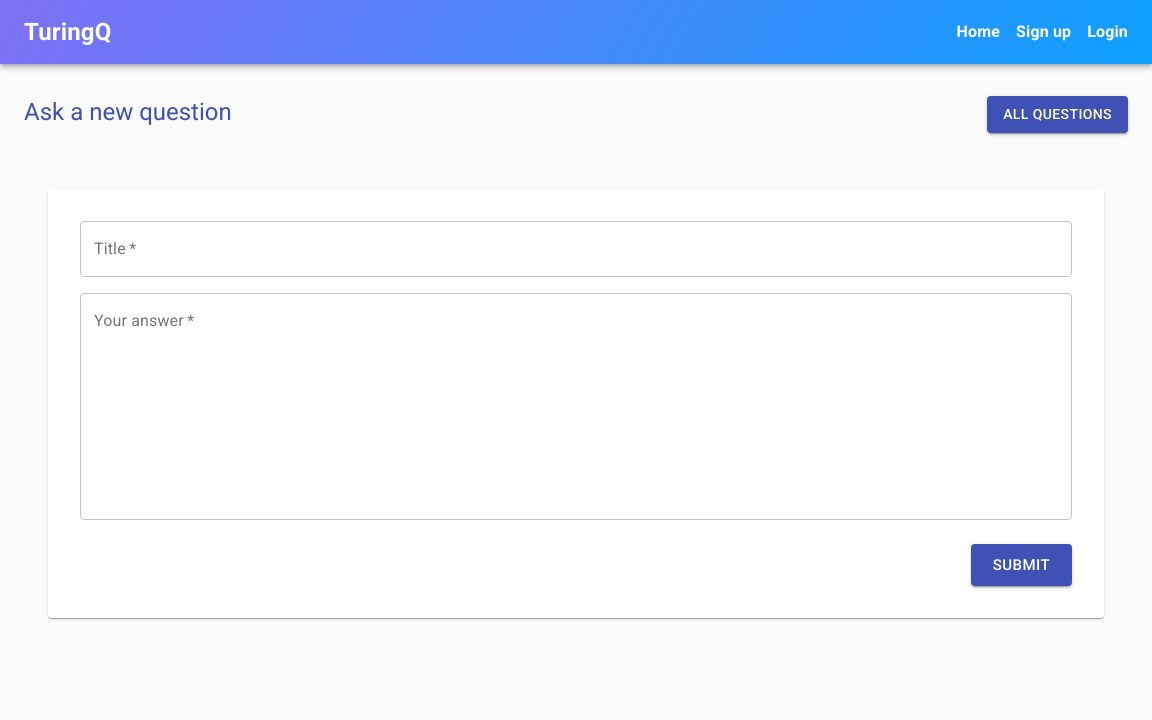
Test: Create and load questions › Should create new question
Type "Three Question mock" into the field with id "title" at (576, 249), box x1=80 y1=221 x2=1072 y2=277
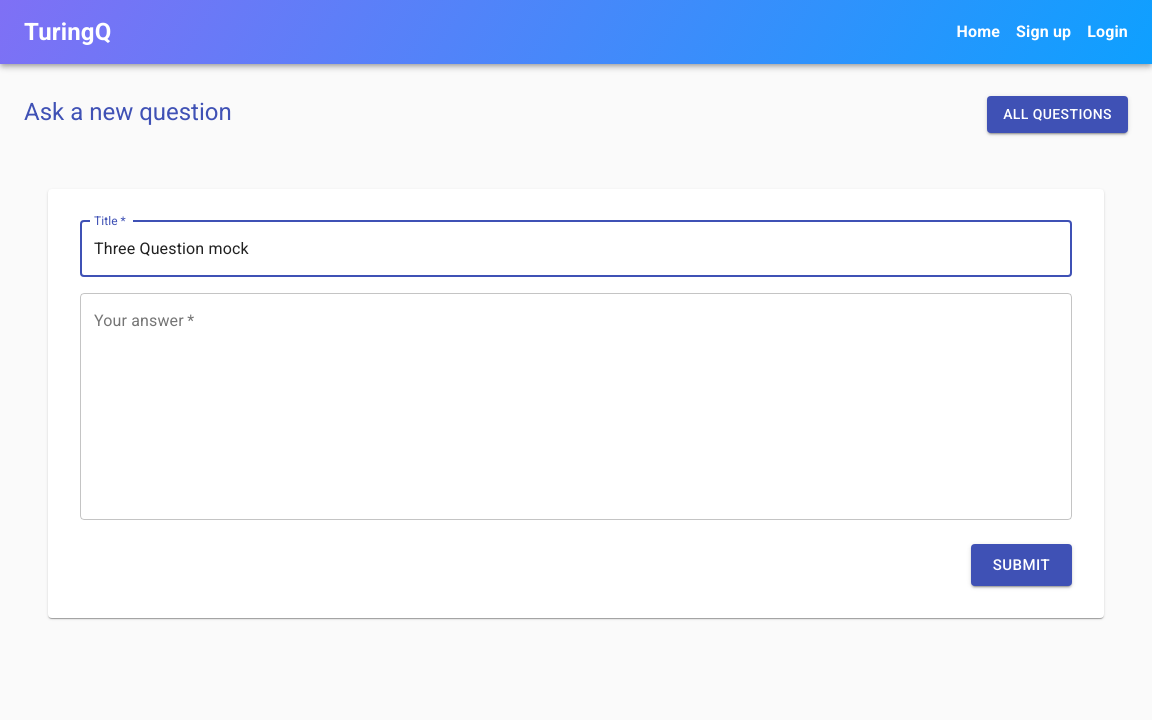
Type "Three Question Three Question mock" into the text box with id "body" at (576, 406), box x1=94 y1=311 x2=1058 y2=501
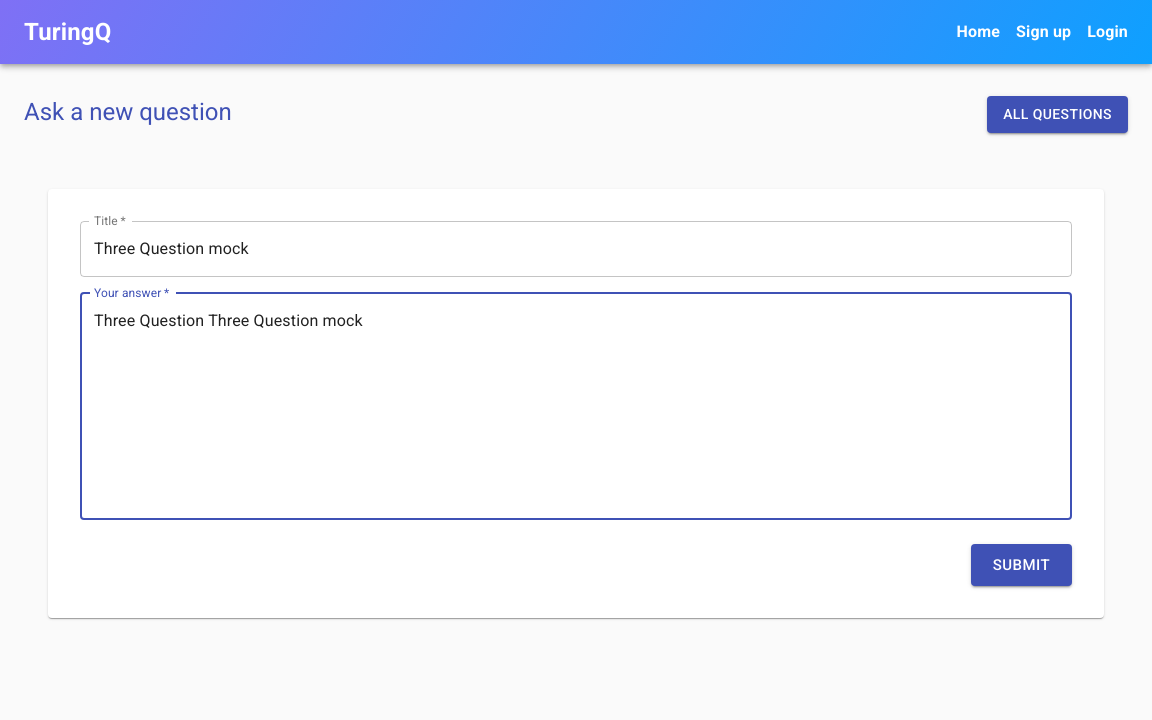
Submit the form, box x1=80 y1=221 x2=1072 y2=586
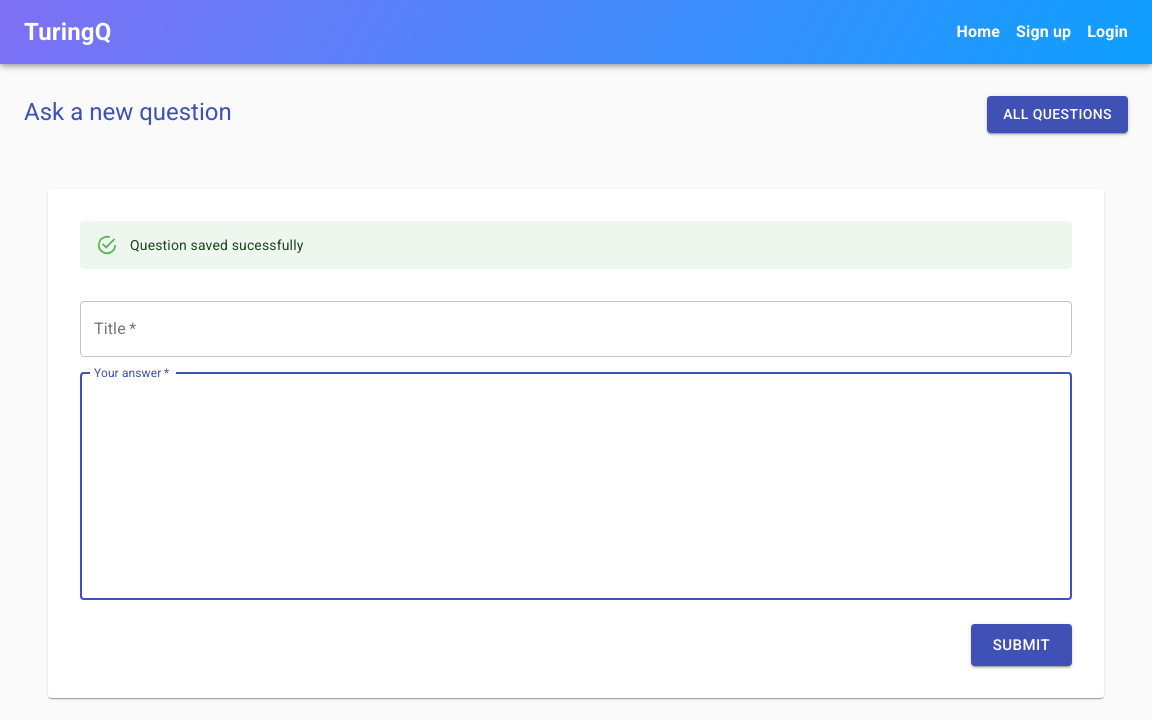
Expected: the text "Question saved sucessfully" is shown, x1=130 y1=236 x2=304 y2=252
